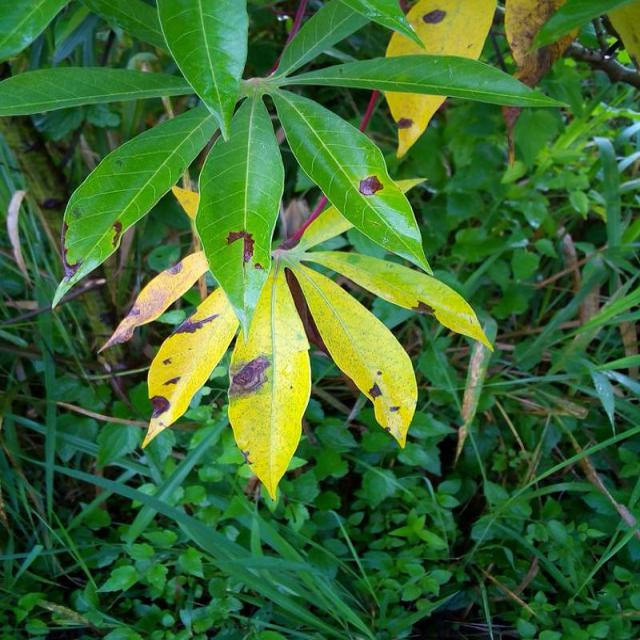cassava leaf: (4, 0, 567, 501), (270, 85, 434, 276), (195, 84, 286, 342), (227, 255, 313, 500), (384, 0, 498, 159)
